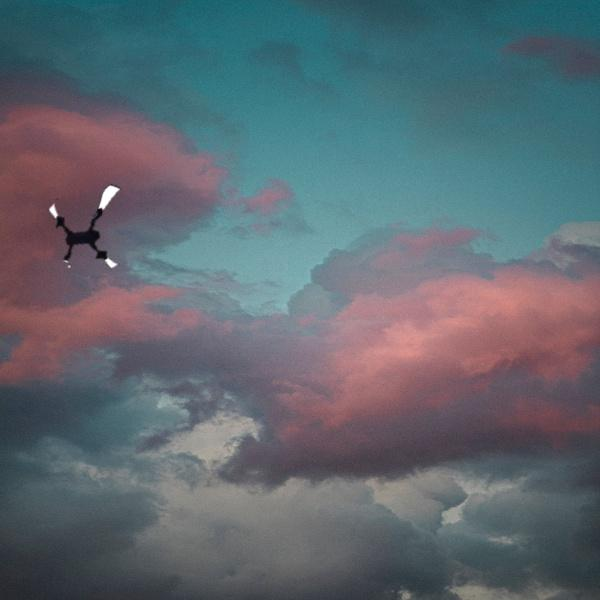drone: (42, 177, 145, 280)
